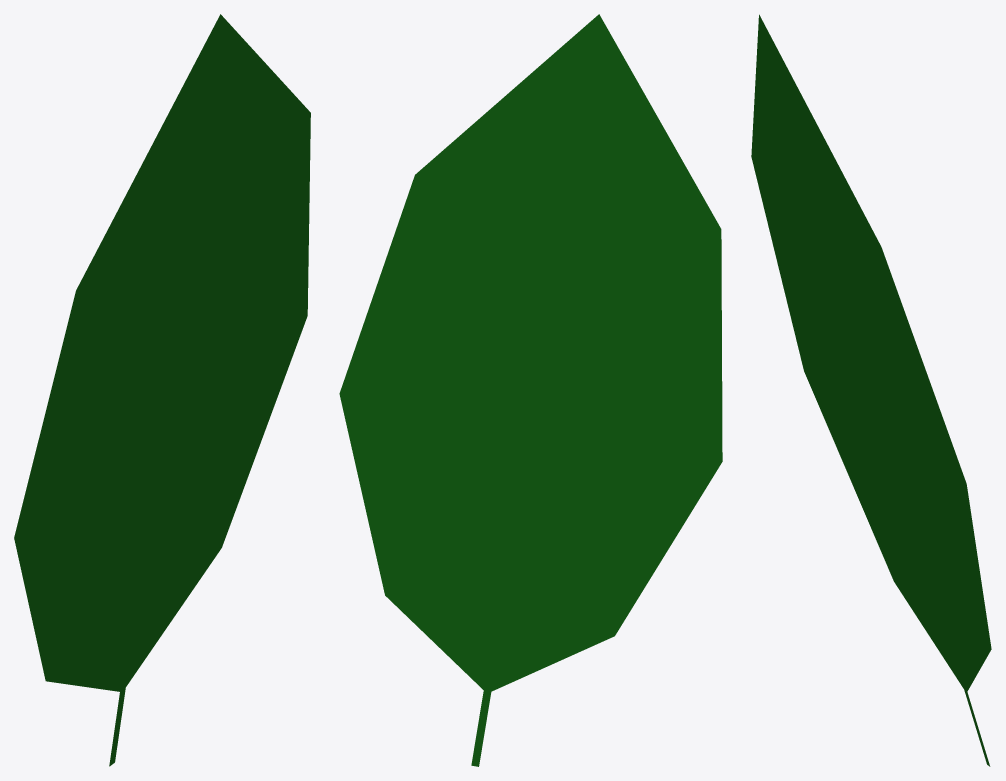
File: Leaves.019.obj
The picture shows the model from 3 angles, left to right: view 1: azimuth 30°, elevation 25°; view 2: azimuth 150°, elevation 25°; view 3: azimuth 270°, elevation 25°; orthographic projection. The views are drawn at different scales.
Visible parts, largest first — view 1: Leaves.019_leaves.019; view 2: Leaves.019_leaves.019; view 3: Leaves.019_leaves.019.
Boxes of the visible parts, x1,y1,x2,y2 form: Leaves.019_leaves.019: [14, 14, 310, 766]; Leaves.019_leaves.019: [339, 14, 722, 766]; Leaves.019_leaves.019: [751, 14, 991, 766].
Size of the model in its own units: 0.0686 by 0.1445 by 0.0424.
